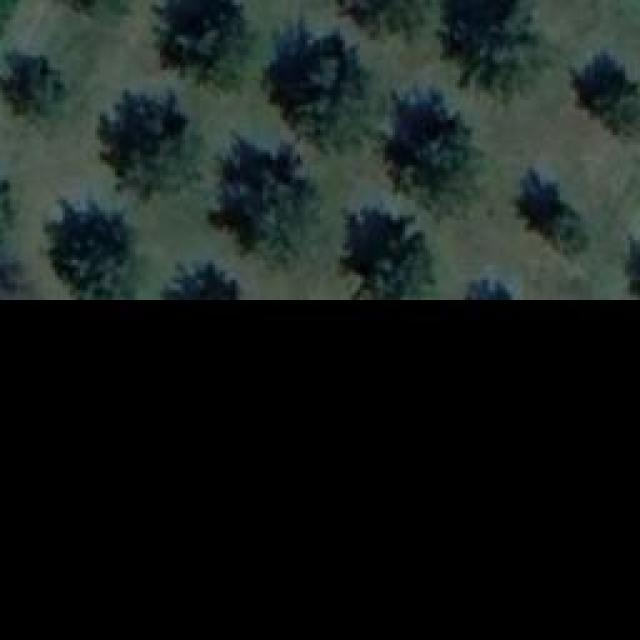Tree: (207, 138, 325, 273), (263, 18, 373, 158), (432, 0, 560, 115), (380, 90, 483, 225), (335, 200, 435, 298), (98, 92, 188, 200), (37, 200, 135, 298), (149, 0, 252, 92), (562, 47, 640, 145), (512, 165, 590, 258), (313, 0, 436, 45), (0, 50, 62, 130), (168, 258, 243, 298), (456, 270, 518, 300), (45, 0, 128, 15), (625, 228, 640, 298)
